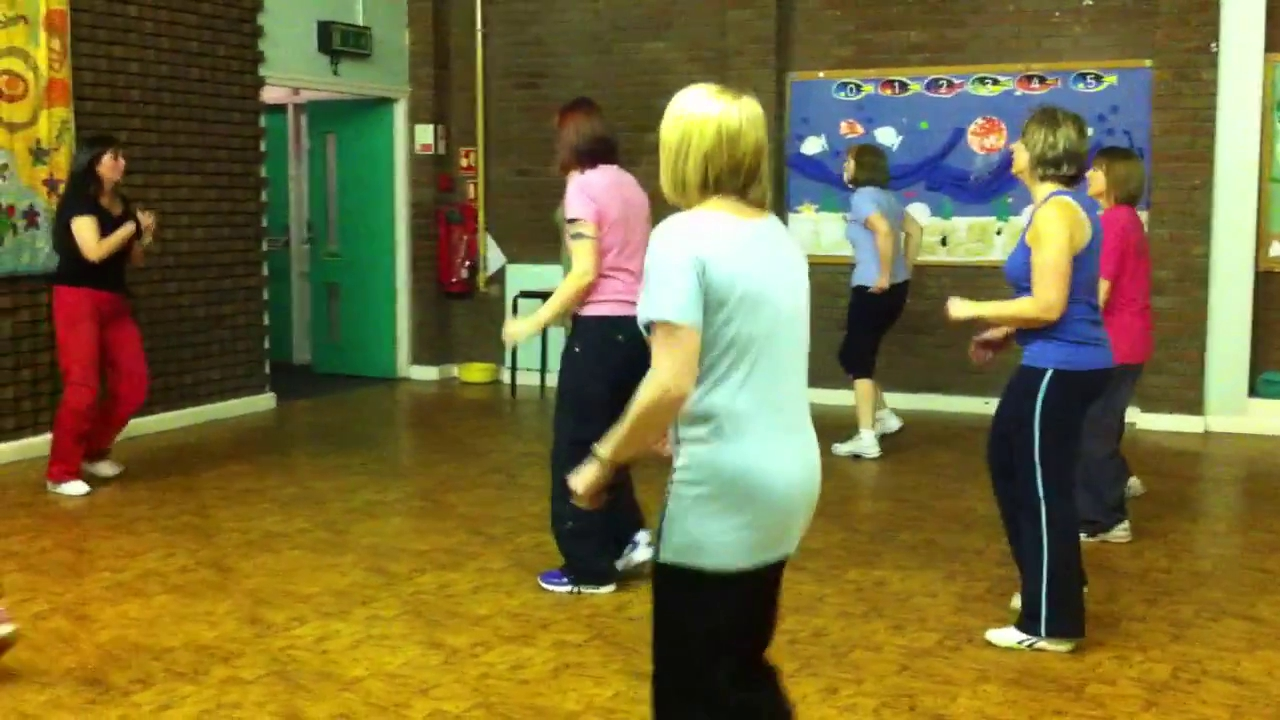person: (566, 81, 822, 717), (942, 104, 1114, 652), (500, 97, 654, 594), (45, 135, 157, 496), (826, 143, 923, 461), (1078, 147, 1153, 544)
